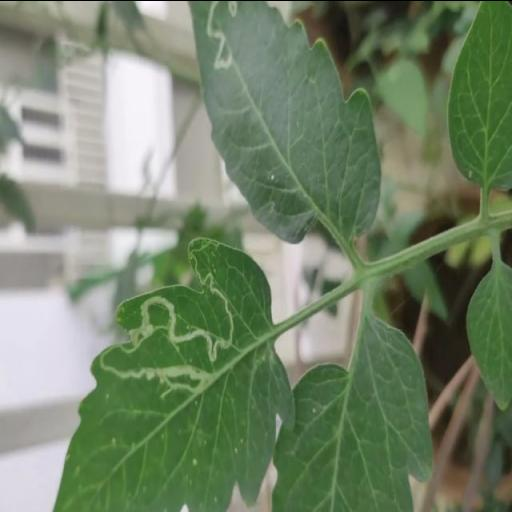disease_tomato: (54, 234, 297, 512), (186, 0, 382, 247)
